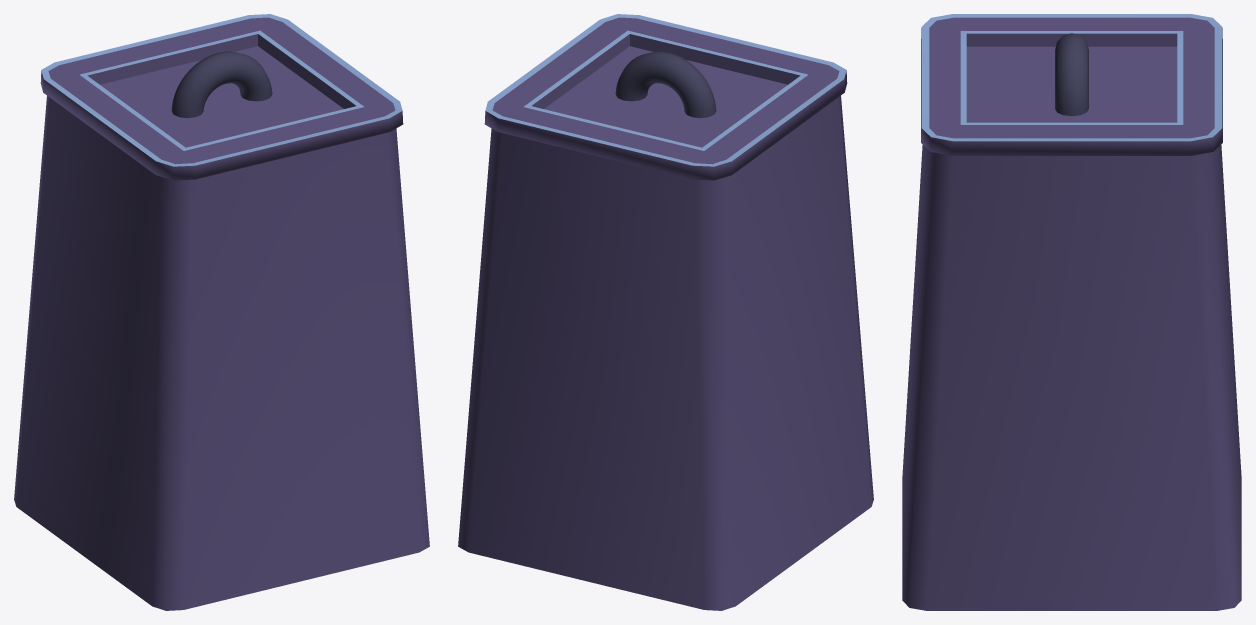
Rendered from Wall_Tile_Wights.fbx.
The picture shows the model from 3 angles, left to right: view 1: azimuth 30°, elevation 25°; view 2: azimuth 150°, elevation 25°; view 3: azimuth 270°, elevation 25°; orthographic projection. The views are drawn at different scales.
Parts seen in each view (by area): view 1: Wall_Tile_Wights; view 2: Wall_Tile_Wights; view 3: Wall_Tile_Wights.
Part boxes in pixels (left/top/right/bottom): Wall_Tile_Wights: left=14, top=14, right=429, bottom=610; Wall_Tile_Wights: left=458, top=14, right=873, bottom=610; Wall_Tile_Wights: left=902, top=14, right=1241, bottom=610.
Bounding box in the file's own units: 2.02 × 2.02 × 3.29.
